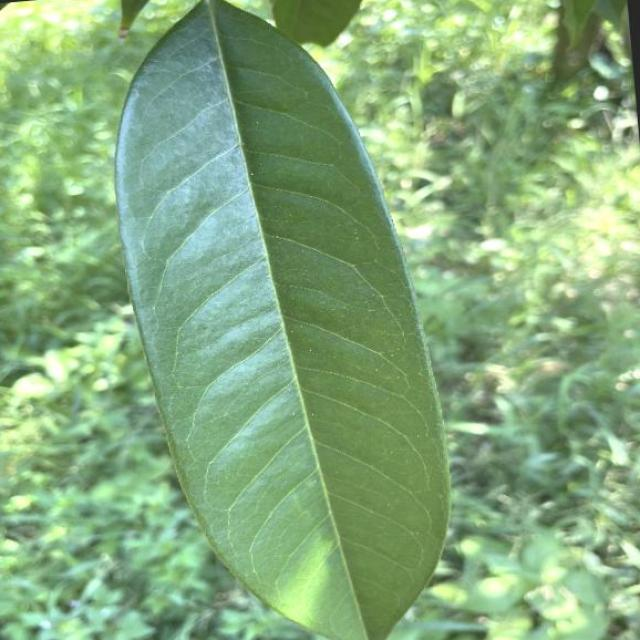No Disease: (90, 0, 488, 640)
